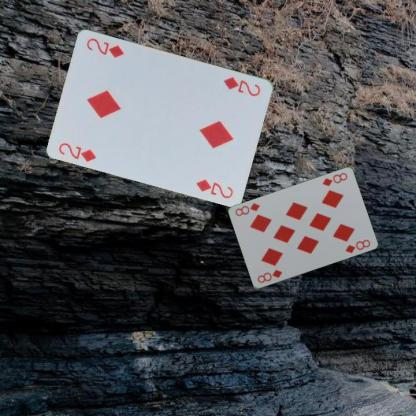2d: (221, 74, 262, 98), (56, 140, 98, 163)
8d: (320, 170, 349, 188), (255, 267, 283, 284)
